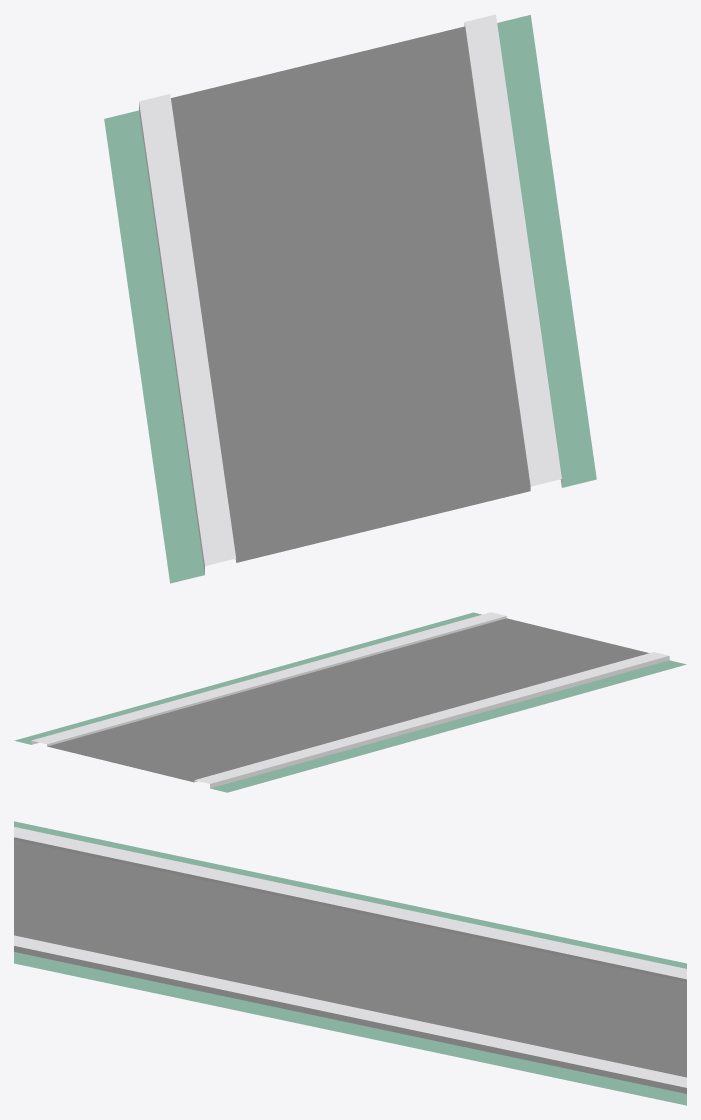
Rendered from roadStraightSkew.glb.
3 renders of one model, top to bottom at view 1: azimuth 30°, elevation 25°; view 2: azimuth 150°, elevation 25°; view 3: azimuth 270°, elevation 25°, orthographic. The views are drawn at different scales.
Parts seen in each view (by area): view 1: roadStraightSkew; view 2: roadStraightSkew; view 3: roadStraightSkew.
Part boxes in pixels (bbox=[...]): roadStraightSkew: bbox=[104, 14, 596, 583]; roadStraightSkew: bbox=[14, 612, 686, 792]; roadStraightSkew: bbox=[14, 821, 686, 1105].
Size of the model in its own units: 2.95 by 0.0295 by 2.95.
